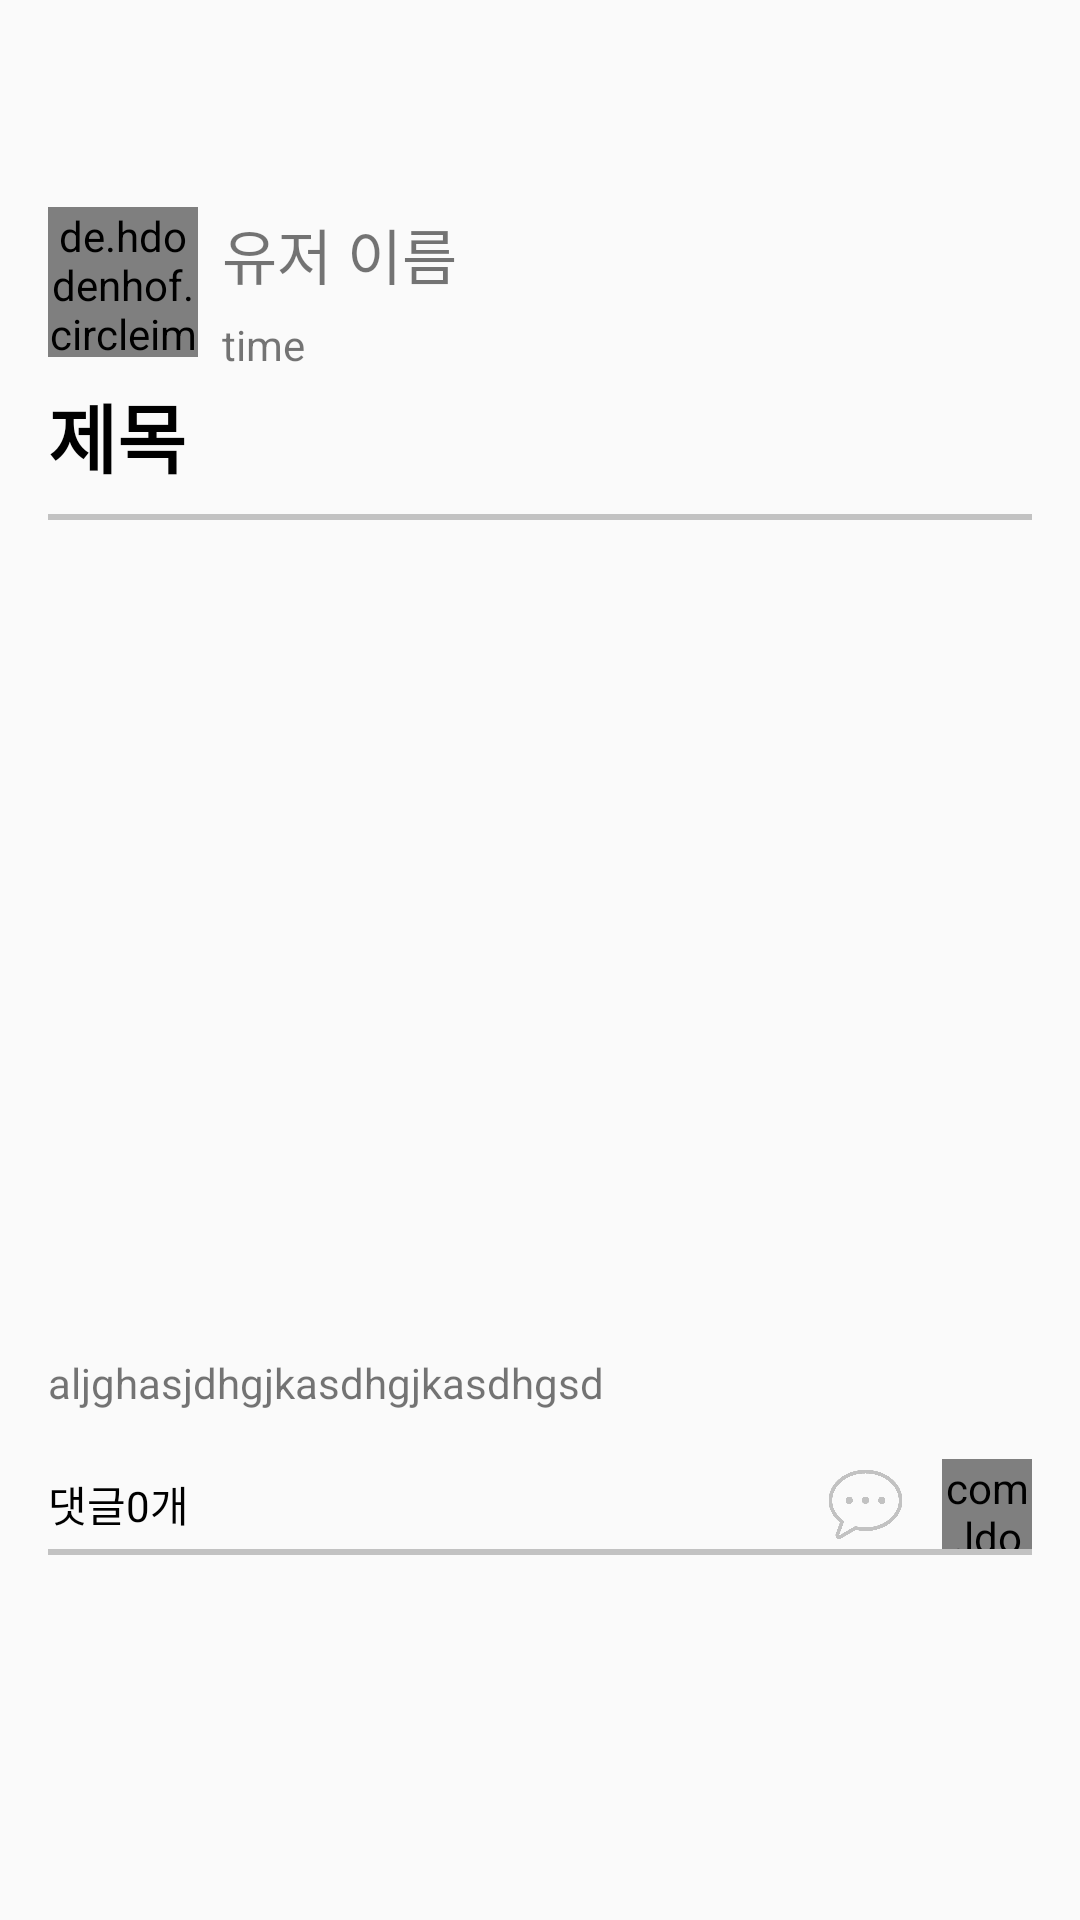

Named icons in this screenshot (1080px x 1920px) and their centers, [x,y]:
comment: [865,1504]
